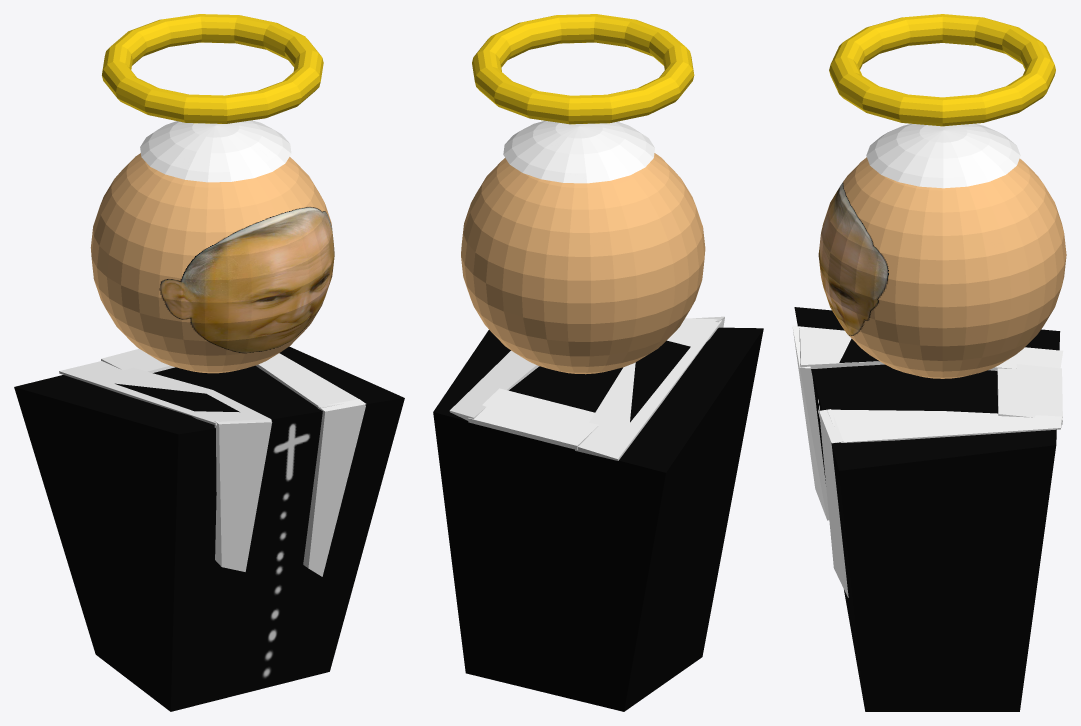
File: papiez.fbx
The picture shows the model from 3 angles, left to right: view 1: azimuth 30°, elevation 25°; view 2: azimuth 150°, elevation 25°; view 3: azimuth 270°, elevation 25°; orthographic projection.
Visible parts, largest first — view 1: Cube.001; view 2: Cube.001; view 3: Cube.001.
Boxes of the visible parts, left/top/right/bottom form: Cube.001: left=14, top=14, right=404, bottom=711; Cube.001: left=433, top=14, right=763, bottom=711; Cube.001: left=792, top=14, right=1066, bottom=711.
Size of the model in its own units: 82.39 by 170 by 68.4.
